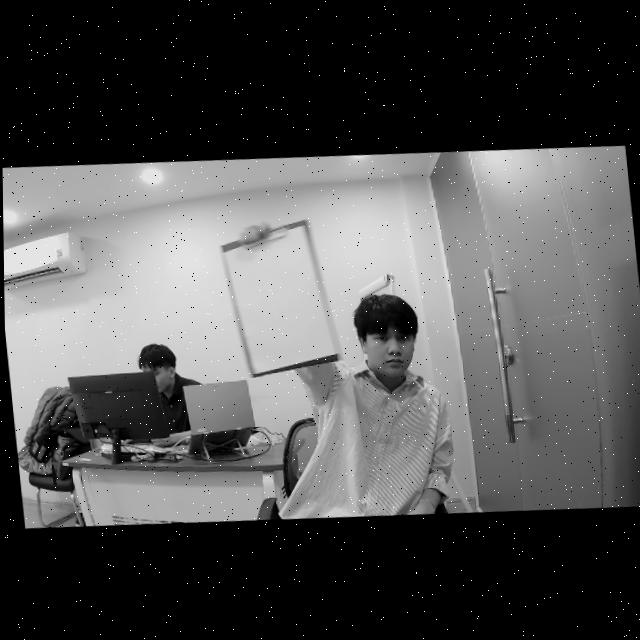face: (356, 316, 425, 382)
